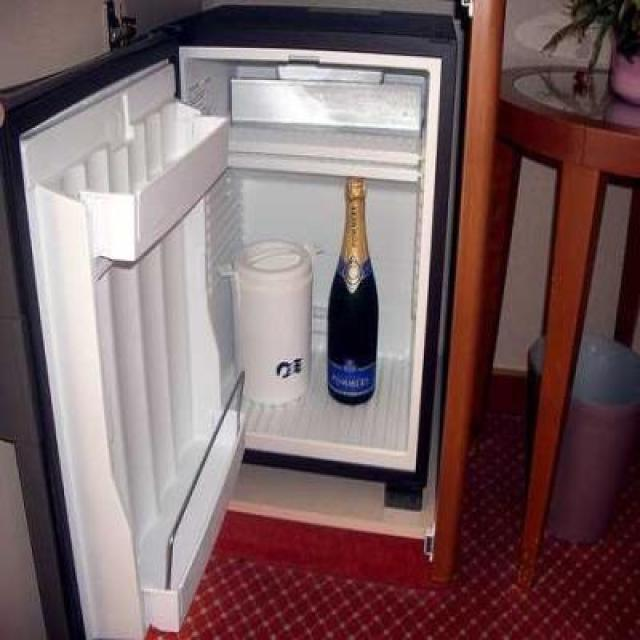refrigerator: (76, 13, 470, 560)
